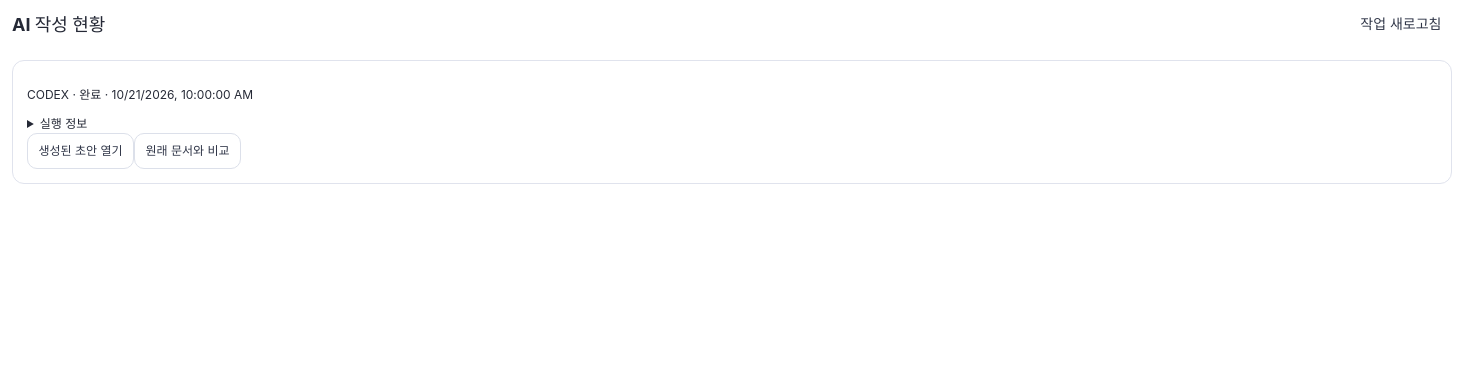
Test: 완료 작업을 명시적으로 선택한 뒤에만 비교 자료를 조회한다
Click the button "원래 문서와 비교" at (188, 151), box [134,133,241,169]
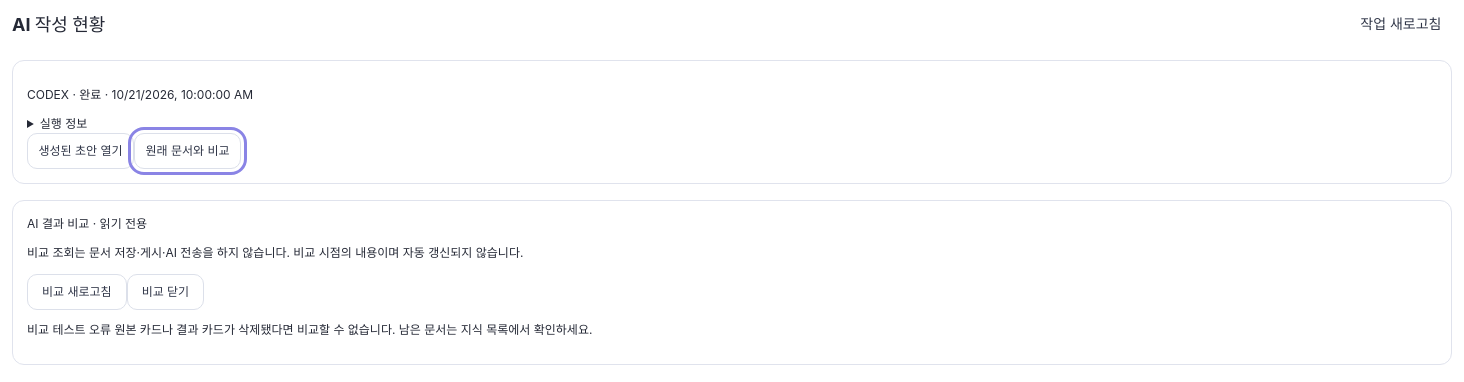
Result: the message shows "비교 테스트 오류" at [27,322,111,337]
Click the button "비교 닫기" at (165, 292), box [127,274,204,310]
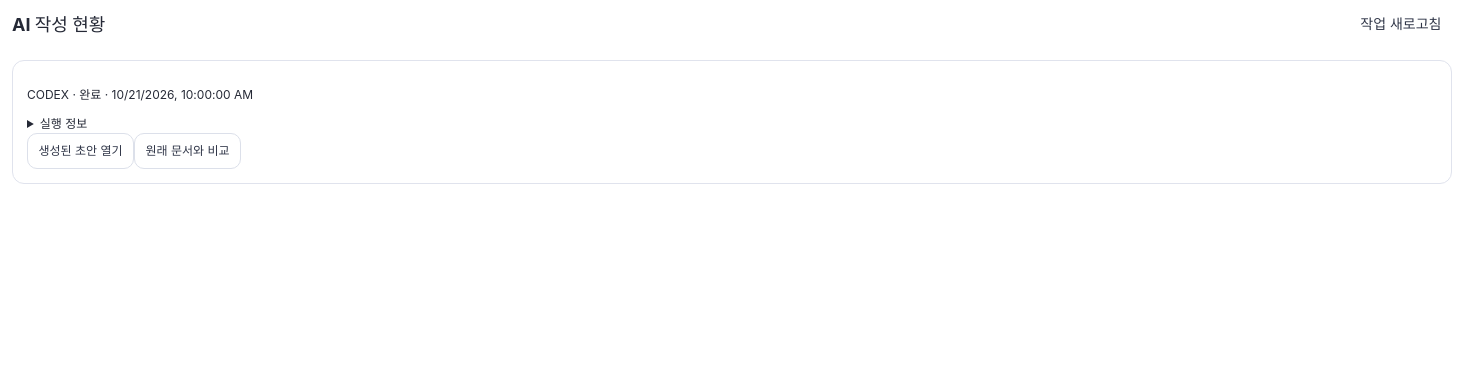
Result: the heading labelled "AI 결과 비교" is gone
